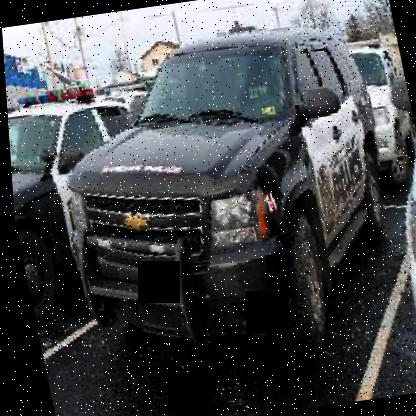emergency: (28, 11, 415, 390), (4, 71, 170, 337)
